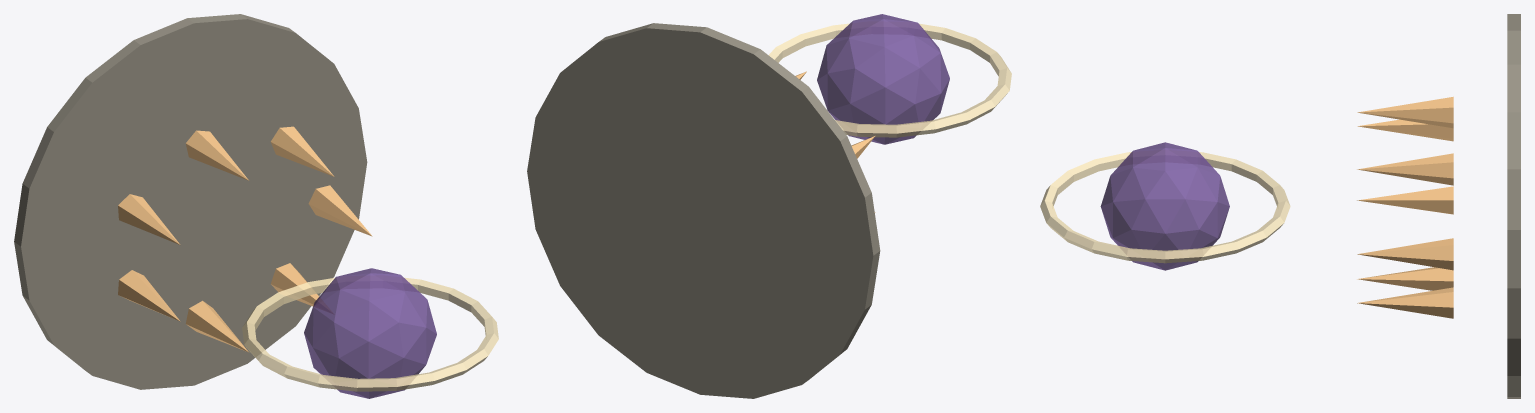
The model's file is 06_weather_terrain_nature_module.glb.
3 views of the same model, side by side, from view 1: azimuth 30°, elevation 25°; view 2: azimuth 150°, elevation 25°; view 3: azimuth 270°, elevation 25° (orthographic). The views are drawn at different scales.
Parts seen in each view (by area): view 1: terrain_patch, sun_color_preview, weather_halo, nature_or_weather_element_2, nature_or_weather_element_1, nature_or_weather_element_0, nature_or_weather_element_3, nature_or_weather_element_5, nature_or_weather_element_4, nature_or_weather_element_6; view 2: terrain_patch, sun_color_preview, weather_halo; view 3: sun_color_preview, weather_halo, terrain_patch, nature_or_weather_element_0, nature_or_weather_element_1, nature_or_weather_element_2, nature_or_weather_element_6, nature_or_weather_element_4, nature_or_weather_element_5, nature_or_weather_element_3.
Boxes of the visible parts, <box> form: terrain_patch: <box>14,14,367,389</box>; sun_color_preview: <box>304,268,436,398</box>; weather_halo: <box>242,277,498,391</box>; nature_or_weather_element_2: <box>185,130,248,180</box>; nature_or_weather_element_1: <box>271,126,334,176</box>; nature_or_weather_element_0: <box>308,185,372,236</box>; nature_or_weather_element_3: <box>118,194,180,244</box>; nature_or_weather_element_5: <box>185,300,248,352</box>; nature_or_weather_element_4: <box>118,270,180,321</box>; nature_or_weather_element_6: <box>271,263,319,306</box>; terrain_patch: <box>527,23,880,398</box>; sun_color_preview: <box>817,14,949,144</box>; weather_halo: <box>768,23,1011,137</box>; sun_color_preview: <box>1100,142,1229,270</box>; weather_halo: <box>1040,152,1290,263</box>; terrain_patch: <box>1507,14,1520,398</box>; nature_or_weather_element_0: <box>1357,238,1453,270</box>; nature_or_weather_element_1: <box>1357,153,1453,185</box>; nature_or_weather_element_2: <box>1357,96,1453,128</box>; nature_or_weather_element_6: <box>1357,287,1453,318</box>; nature_or_weather_element_4: <box>1357,186,1453,214</box>; nature_or_weather_element_5: <box>1357,267,1453,290</box>; nature_or_weather_element_3: <box>1357,119,1453,141</box>.
Bounding box in the file's own units: 1.44 × 1.44 × 1.78.
